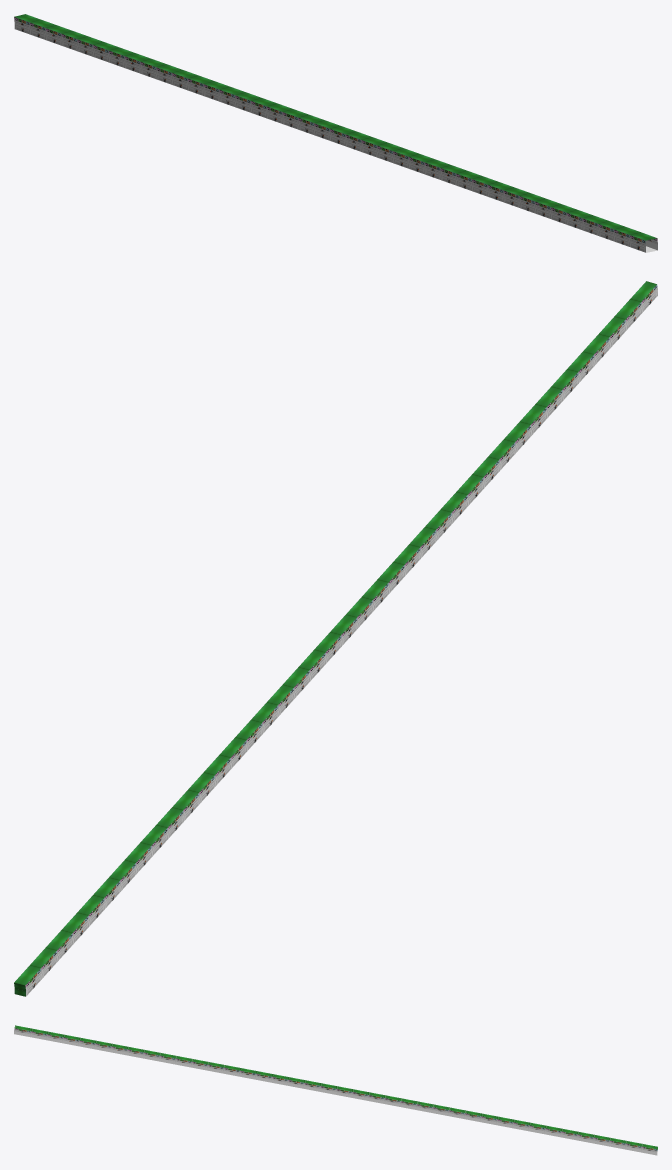
Rendered from CourseAki_Wall_R_10.fbx.
3 views of the same model, one above another, from view 1: azimuth 30°, elevation 25°; view 2: azimuth 150°, elevation 25°; view 3: azimuth 270°, elevation 25° (orthographic). The views are drawn at different scales.
Parts seen in each view (by area): view 1: polySurface303; view 2: polySurface303; view 3: polySurface303.
Part boxes in pixels (x1,y1,x2,y2): polySurface303: [14, 14, 657, 252]; polySurface303: [14, 281, 657, 996]; polySurface303: [14, 1025, 657, 1155].
Bounding box in the file's own units: 2.01 × 41.98 × 192.
1 material, 1 textured.
